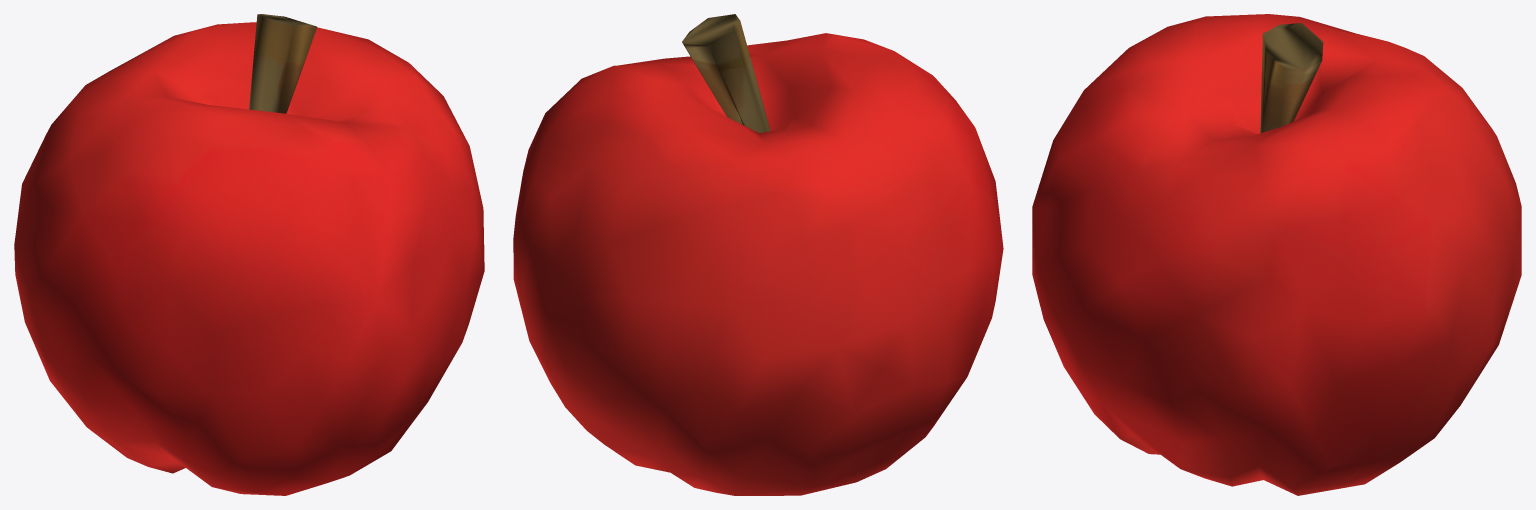
Rendered from Red_Apple.fbx.
3 renders of one model, left to right at view 1: azimuth 30°, elevation 25°; view 2: azimuth 150°, elevation 25°; view 3: azimuth 270°, elevation 25°, orthographic. The views are drawn at different scales.
Parts seen in each view (by area): view 1: mesh_node; view 2: mesh_node; view 3: mesh_node.
Part boxes in pixels (bbox=[...]): mesh_node: bbox=[14, 14, 484, 495]; mesh_node: bbox=[513, 14, 1003, 495]; mesh_node: bbox=[1032, 14, 1521, 495].
Size of the model in its own units: 100 by 98.44 by 100.
Materials: 1 (1 with a texture image).
